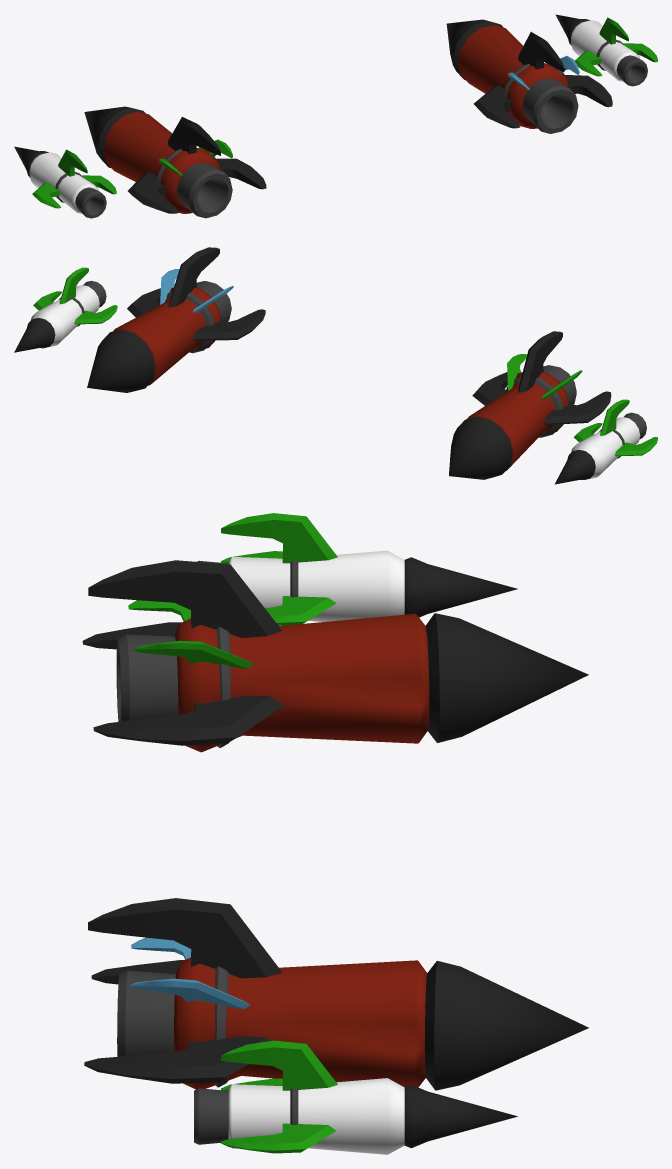
The model's file is Rocket level 3.fbx.
The picture shows the model from 3 angles, top to bottom: view 1: azimuth 30°, elevation 25°; view 2: azimuth 150°, elevation 25°; view 3: azimuth 270°, elevation 25°; orthographic projection. The views are drawn at different scales.
Visible parts, largest first — view 1: rocket3 base left, rocket3 base right, Rocket3 flaps1 left, Rocket3 flaps1 right, rocket3 add_left base, rocket3 add_right base, Rocket3 add_left flaps1 left, Rocket3 add_right flaps1 left, Rocket3 flaps2 righ, Rocket3 flaps2 left; view 2: rocket3 base right, rocket3 base left, Rocket3 flaps1 right, Rocket3 flaps1 left, rocket3 add_right base, rocket3 add_left base, Rocket3 add_right flaps1 left, Rocket3 add_left flaps1 left, Rocket3 flaps2 left, Rocket3 flaps2 righ; view 3: rocket3 base left, rocket3 base right, rocket3 add_right base, Rocket3 flaps1 left, Rocket3 flaps1 right, rocket3 add_left base, Rocket3 add_right flaps1 left, Rocket3 add_left flaps1 left, Rocket3 flaps2 righ, Rocket3 flaps2 left.
Part boxes in pixels (left/top/right/bottom): rocket3 base left: left=84, top=106, right=232, bottom=218; rocket3 base right: left=446, top=19, right=578, bottom=133; Rocket3 flaps1 left: left=128, top=117, right=266, bottom=213; Rocket3 flaps1 right: left=473, top=32, right=612, bottom=128; rocket3 add_left base: left=14, top=146, right=106, bottom=218; rocket3 add_right base: left=555, top=14, right=647, bottom=86; Rocket3 add_left flaps1 left: left=32, top=149, right=116, bottom=208; Rocket3 add_right flaps1 left: left=575, top=17, right=657, bottom=76; Rocket3 flaps2 righ: left=508, top=56, right=579, bottom=90; Rocket3 flaps2 left: left=159, top=139, right=232, bottom=175; rocket3 base right: left=87, top=281, right=231, bottom=392; rocket3 base left: left=449, top=365, right=576, bottom=479; Rocket3 flaps1 right: left=127, top=247, right=265, bottom=340; Rocket3 flaps1 left: left=472, top=331, right=611, bottom=424; rocket3 add_right base: left=14, top=281, right=106, bottom=352; rocket3 add_left base: left=554, top=412, right=646, bottom=484; Rocket3 add_right flaps1 left: left=33, top=267, right=117, bottom=324; Rocket3 add_left flaps1 left: left=573, top=399, right=657, bottom=456; Rocket3 flaps2 left: left=507, top=354, right=582, bottom=399; Rocket3 flaps2 righ: left=160, top=269, right=233, bottom=312; rocket3 base left: left=116, top=613, right=588, bottom=752; rocket3 base right: left=117, top=957, right=588, bottom=1090; rocket3 add_right base: left=194, top=1078, right=517, bottom=1154; Rocket3 flaps1 left: left=82, top=560, right=284, bottom=745; Rocket3 flaps1 right: left=84, top=898, right=282, bottom=1083; rocket3 add_left base: left=197, top=550, right=517, bottom=621; Rocket3 add_right flaps1 left: left=221, top=1040, right=337, bottom=1153; Rocket3 add_left flaps1 left: left=221, top=513, right=337, bottom=625; Rocket3 flaps2 righ: left=129, top=937, right=250, bottom=1008; Rocket3 flaps2 left: left=128, top=600, right=253, bottom=668.
Size of the model in its own units: 7.74 by 1.12 by 2.78.
1 material, 1 textured.
